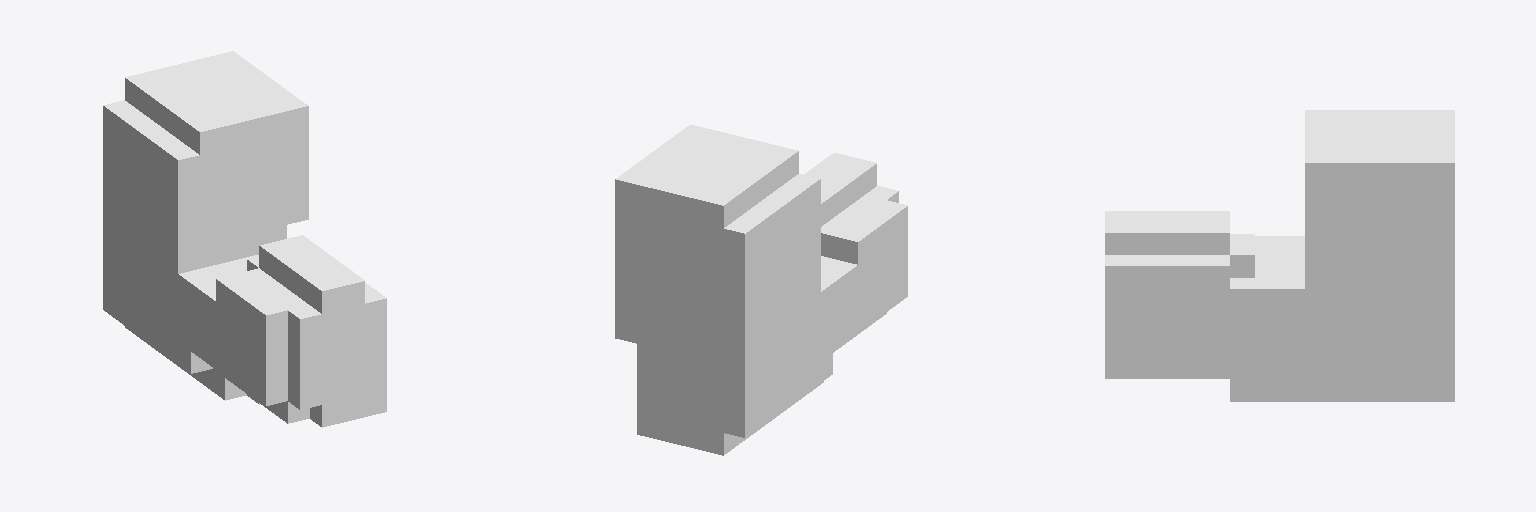
The model's file is DragonArmRight.obj.
3 renders of one model, left to right at view 1: azimuth 30°, elevation 25°; view 2: azimuth 150°, elevation 25°; view 3: azimuth 270°, elevation 25°, orthographic.
Parts seen in each view (by area): view 1: DragonArmRight; view 2: DragonArmRight; view 3: DragonArmRight.
Part boxes in pixels (bbox=[...]): DragonArmRight: bbox=[103, 51, 386, 427]; DragonArmRight: bbox=[615, 124, 907, 455]; DragonArmRight: bbox=[1105, 110, 1454, 401].
Bounding box in the file's own units: 6 × 11 × 14.